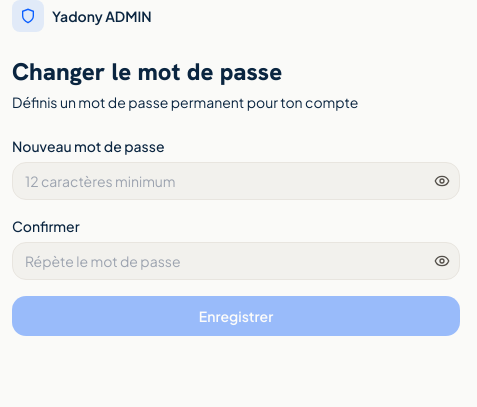
Test: change-password page — reconnexion exigée par le back › autre erreur : message générique, pas de bouton de reconnexion
The image size is (477, 407).
In the password field with id "new-password": (236, 181) [12,162,460,200], type "NouveauMotDePasse!1"
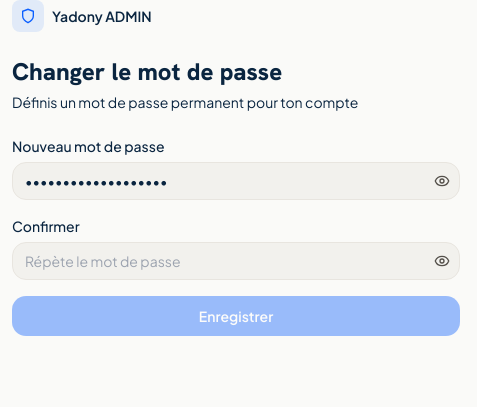
In the password field with id "confirm-password": (236, 261) [12,242,460,280], type "NouveauMotDePasse!1"
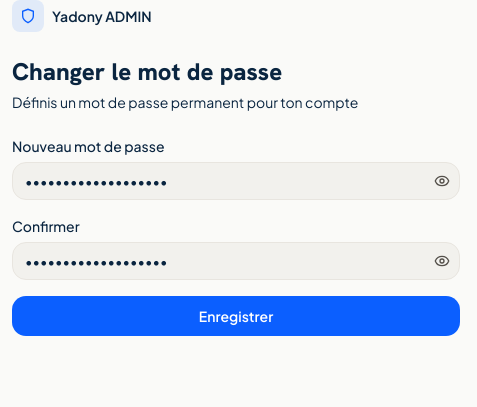
Submit the form, box [12,136,460,336]
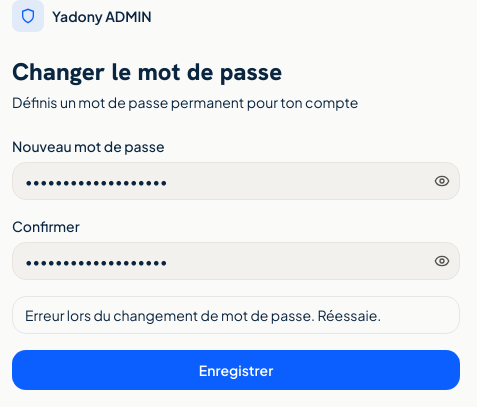
Now the text "Réessaie" is shown, box [25,306,381,324]
